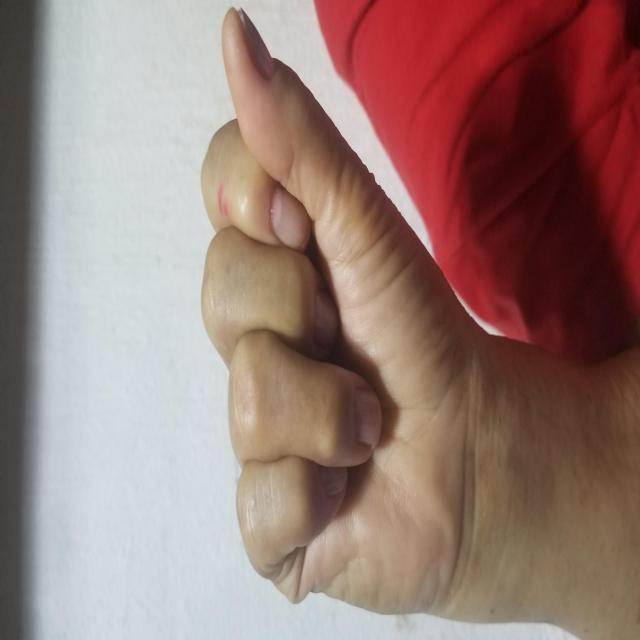A: (22, 197, 634, 474)
